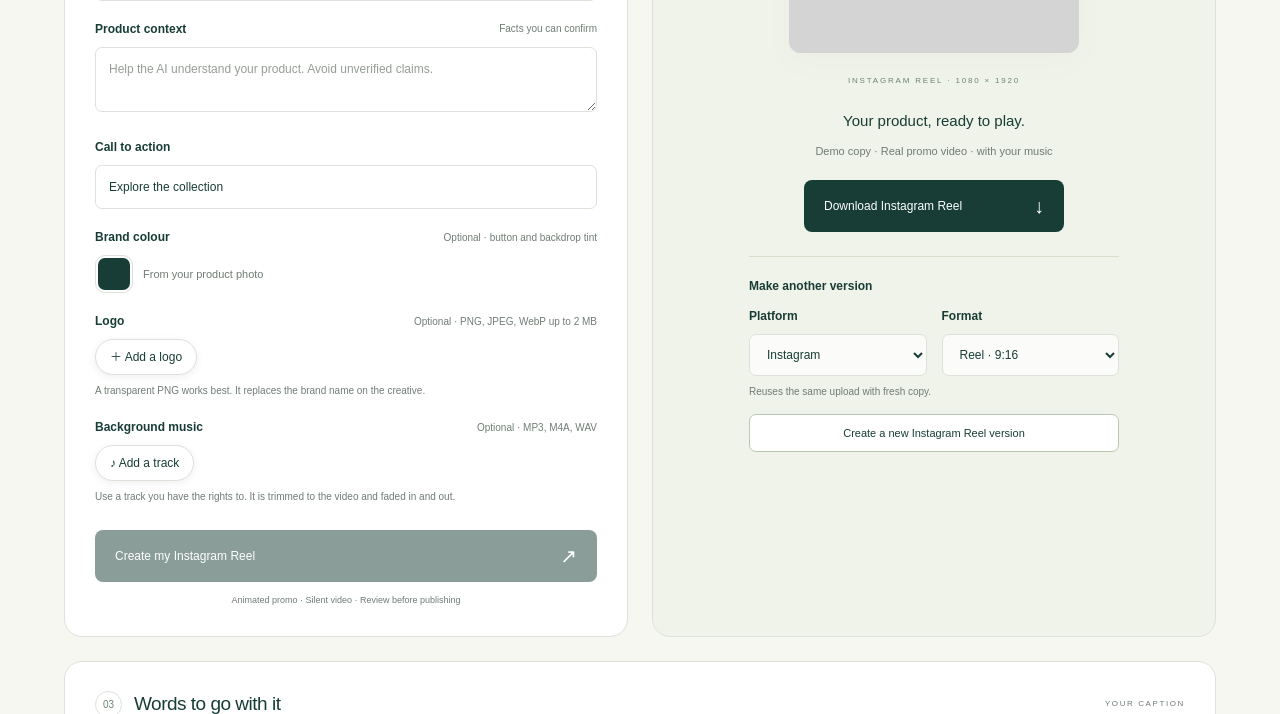
Test: another version › says the music is left out for image formats
(page scrolled)
Expected: the button "Create a new Instagram Reel version" is shown, left=749, top=414, right=1119, bottom=452
Expected: the text "music is left out" is not shown
Step 1. Select "Square Post (1:1) · 1:1" in the dropdown named "Format for the new version" → (1030, 355), box left=942, top=334, right=1119, bottom=376
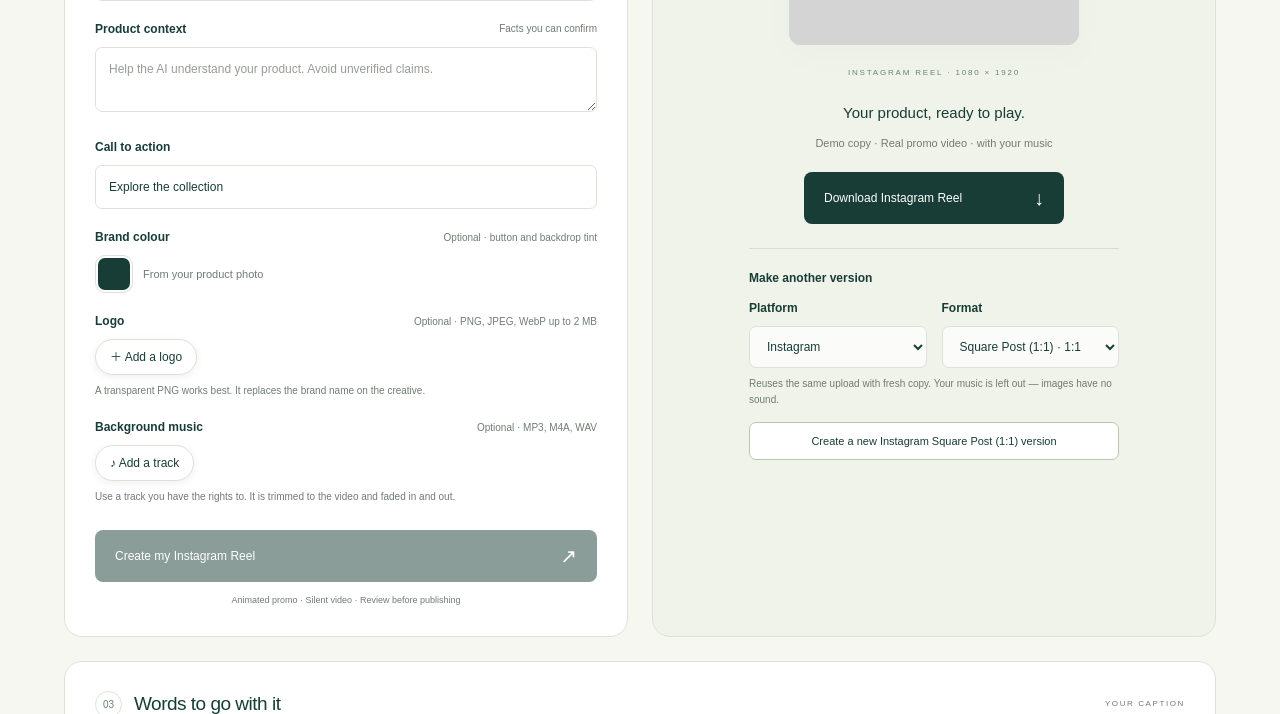
Expected: the text "music is left out" is shown, left=749, top=378, right=1112, bottom=405
